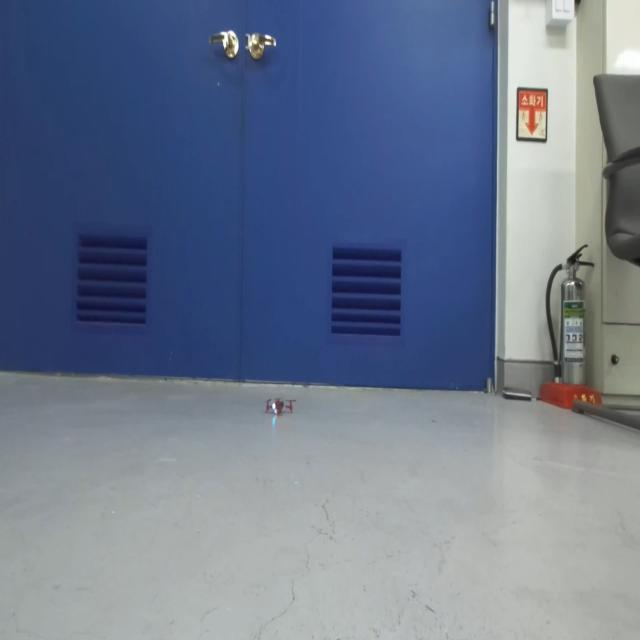crazyflie: (262, 391, 296, 422)
